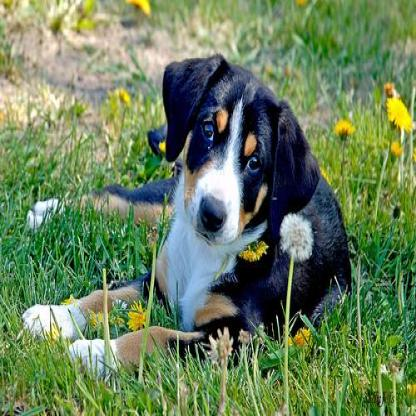EntleBucher: (22, 50, 351, 374)
